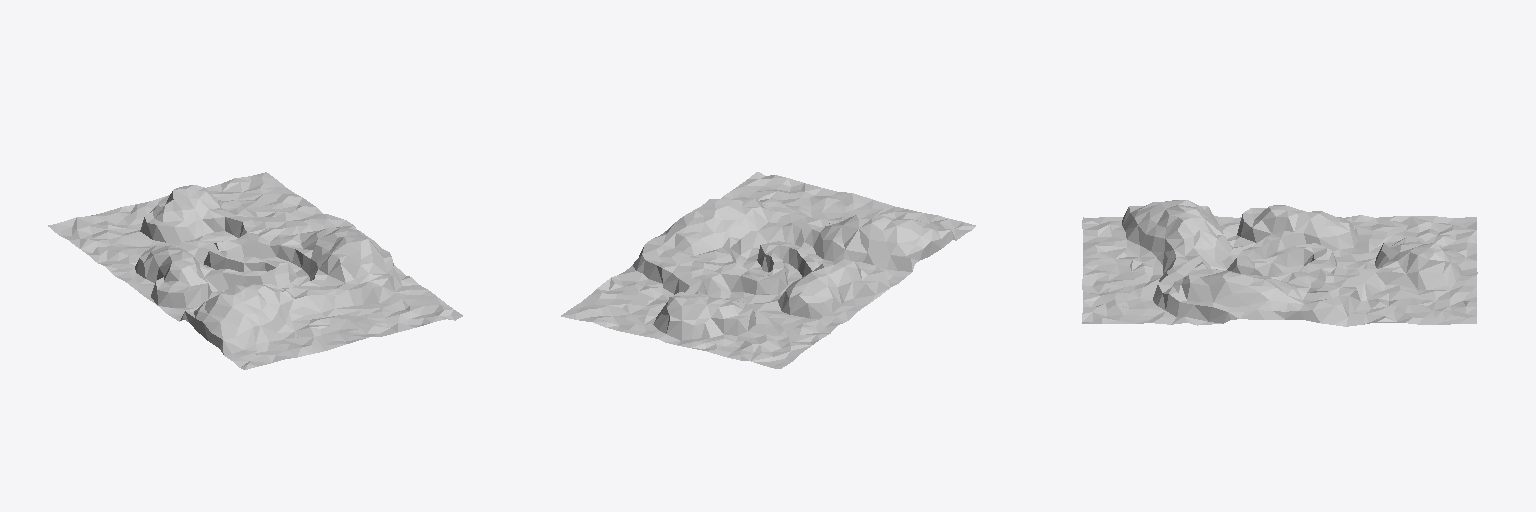
File: Terrain_03_LP.obj
The picture shows the model from 3 angles: view 1: azimuth 30°, elevation 25°; view 2: azimuth 150°, elevation 25°; view 3: azimuth 270°, elevation 25°; orthographic projection.
Parts seen in each view (by area): view 1: Terrain_03_lowpoly_Terrain_01; view 2: Terrain_03_lowpoly_Terrain_01; view 3: Terrain_03_lowpoly_Terrain_01.
Part boxes in pixels (bbox=[...]): Terrain_03_lowpoly_Terrain_01: bbox=[48, 172, 462, 369]; Terrain_03_lowpoly_Terrain_01: bbox=[561, 172, 975, 368]; Terrain_03_lowpoly_Terrain_01: bbox=[1082, 200, 1477, 326].
Bounding box in the file's own units: 36.36 × 5.52 × 56.17.